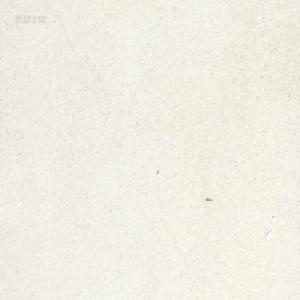Nail: (205, 194, 212, 199)
